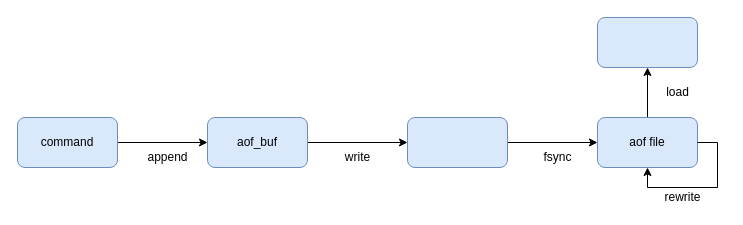
This 743x225 diagram has some shape labels left out. The centre of each missing label's shape, as x and y in pixels:
memory: pixel 647 42
os cache: pixel 457 142
